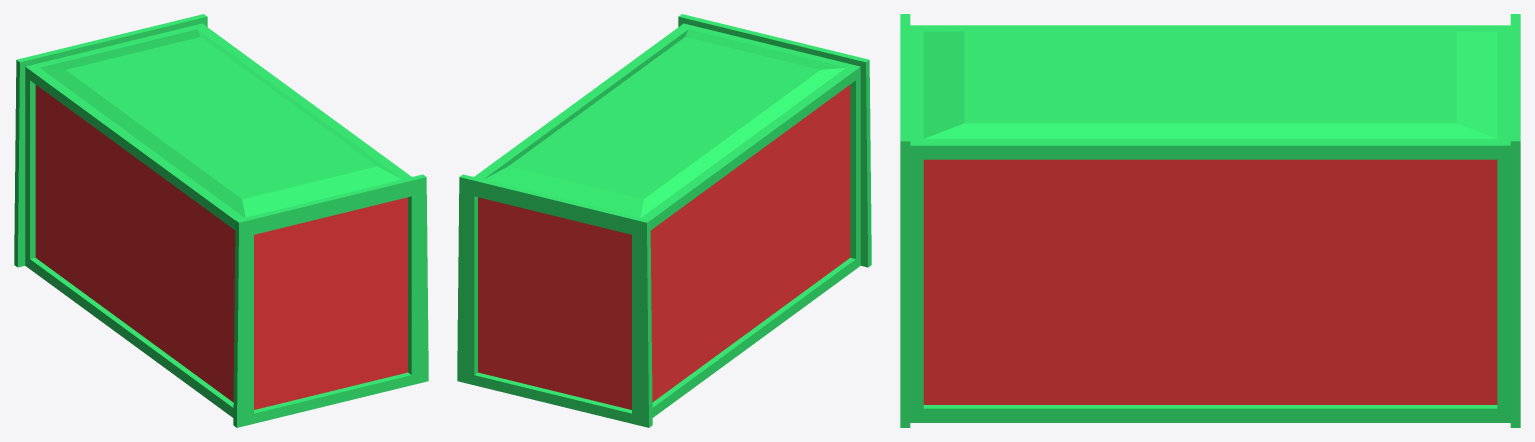
Rendered from crate_large.FBX.
3 views of the same model, side by side, from view 1: azimuth 30°, elevation 25°; view 2: azimuth 150°, elevation 25°; view 3: azimuth 270°, elevation 25° (orthographic). The views are drawn at different scales.
Visible parts, largest first — view 1: Crate_Large; view 2: Crate_Large; view 3: Crate_Large.
Part boxes in pixels (x1=…): Crate_Large: x1=14, y1=14, x2=428, y2=427; Crate_Large: x1=457, y1=14, x2=871, y2=427; Crate_Large: x1=900, y1=14, x2=1520, y2=427.
Size of the model in its own units: 73.33 by 74.83 by 147.
